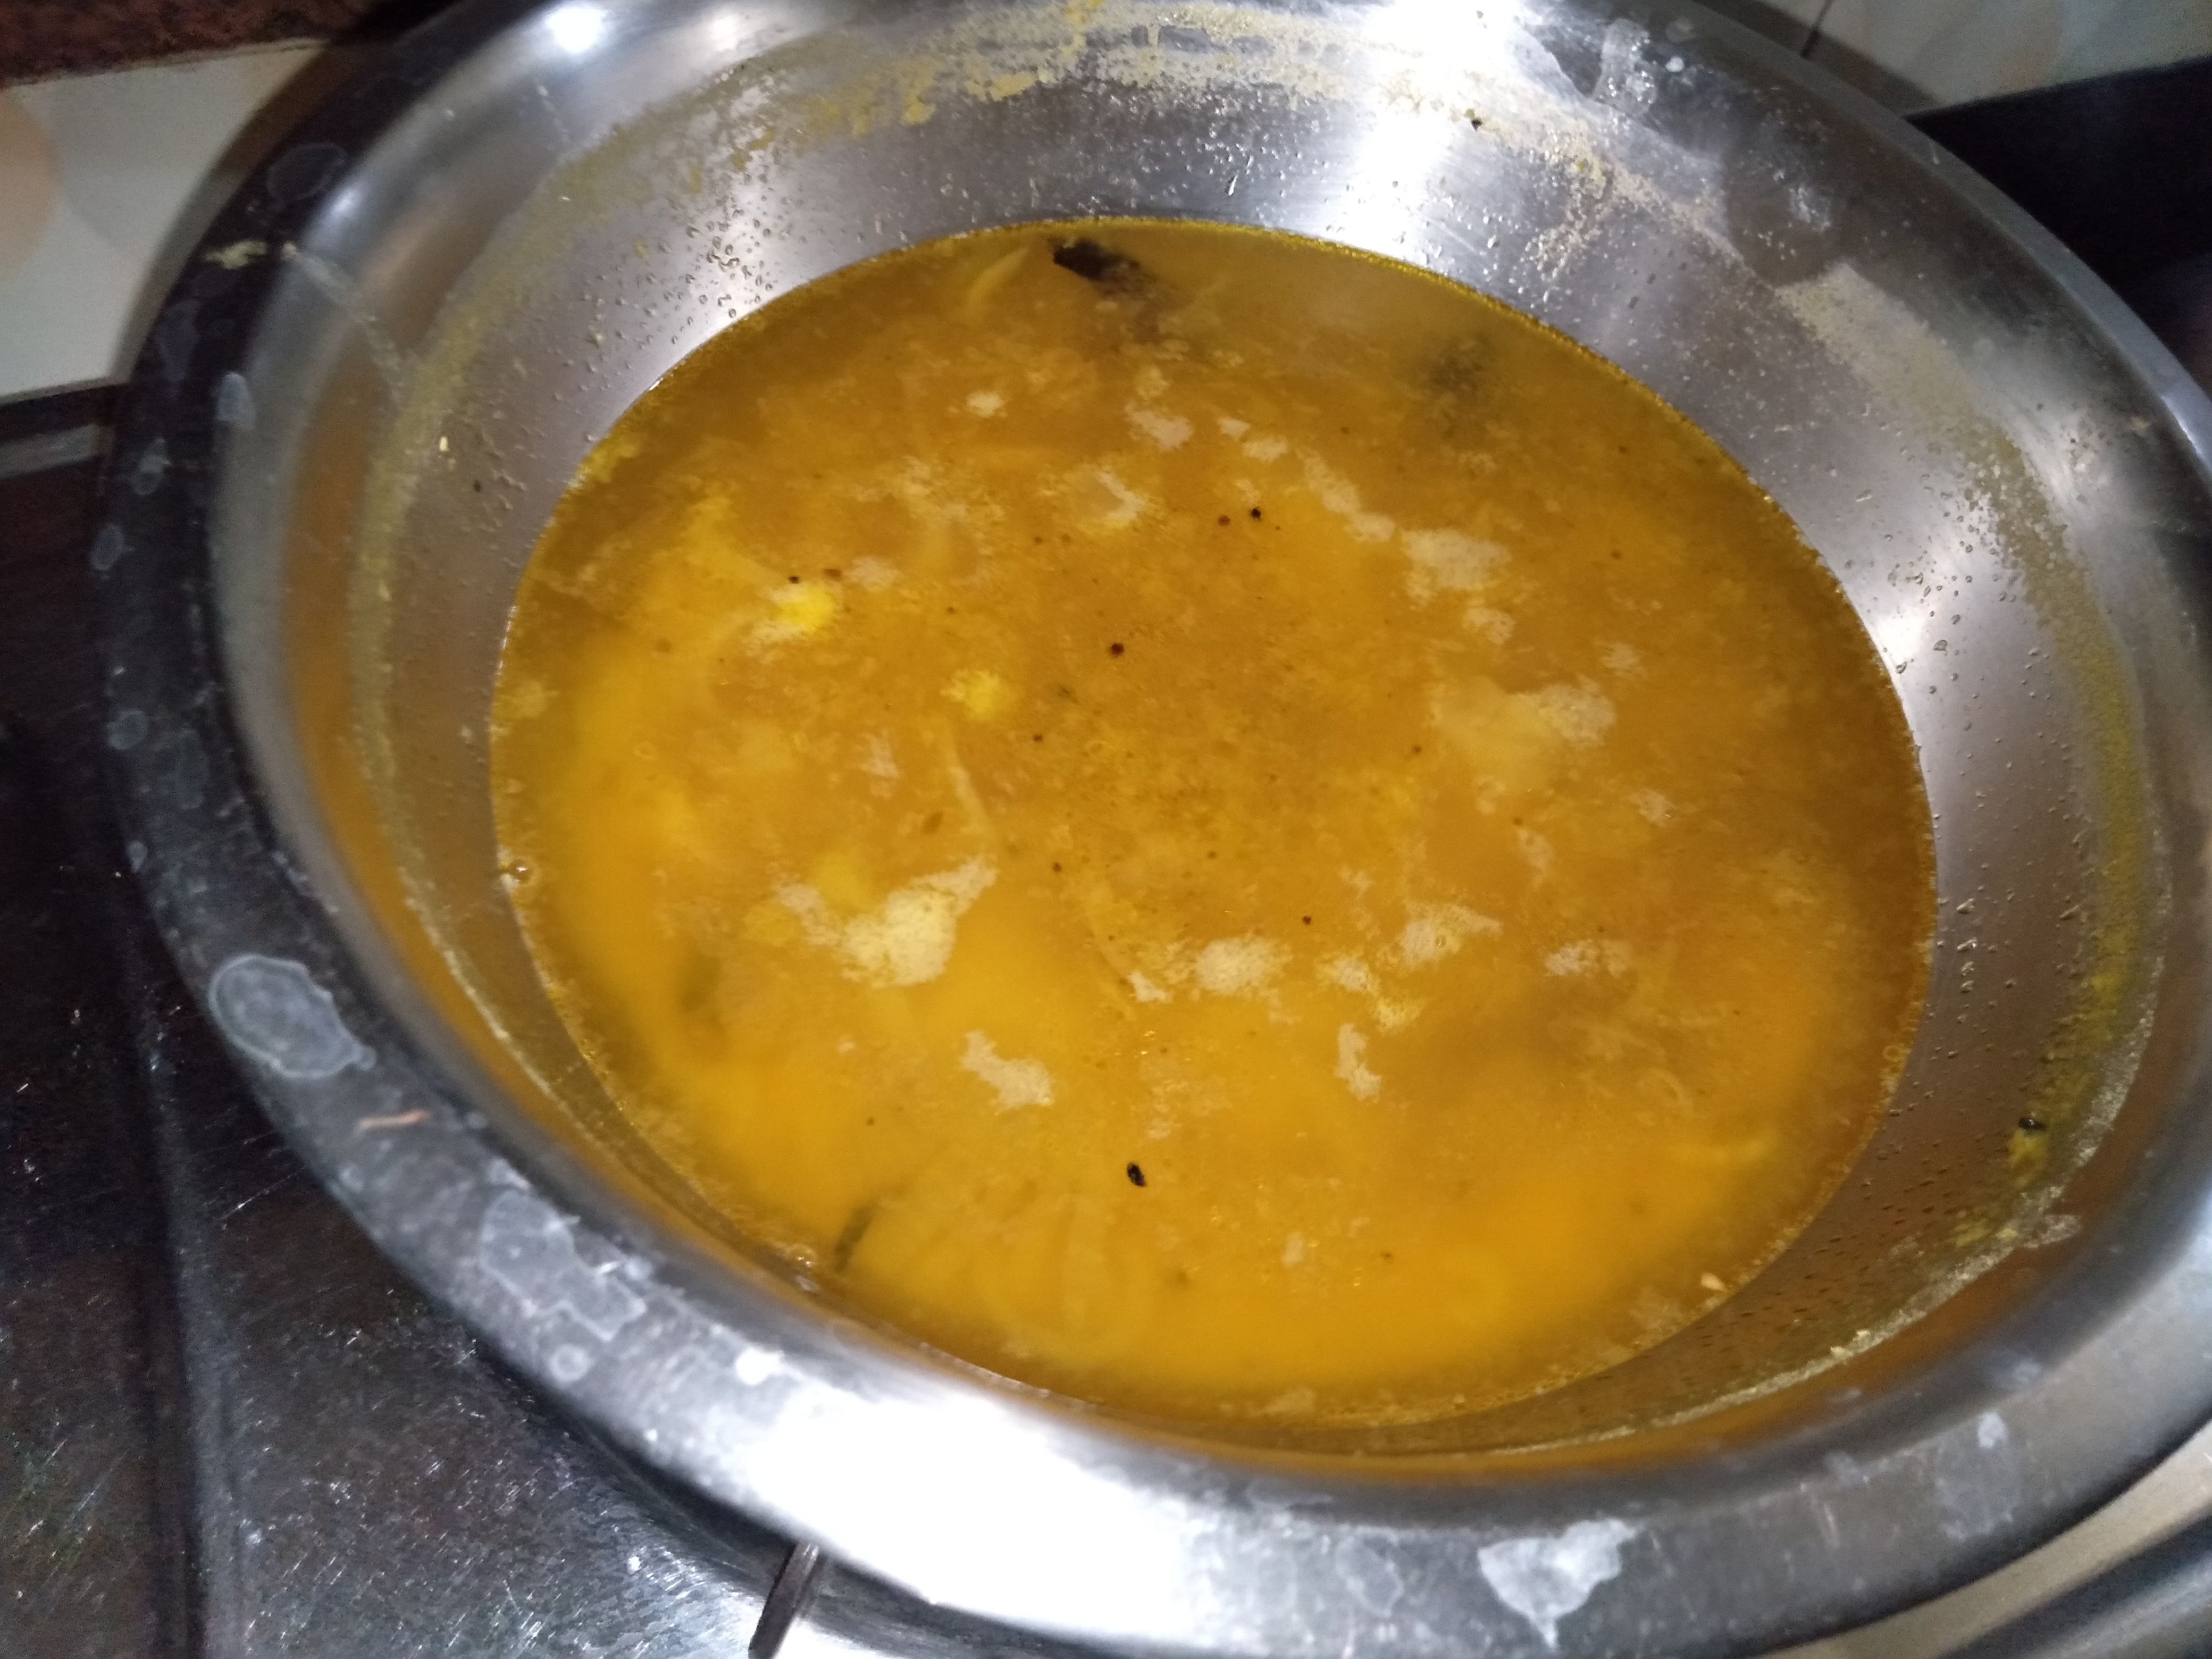food: (475, 199, 1952, 1441)
